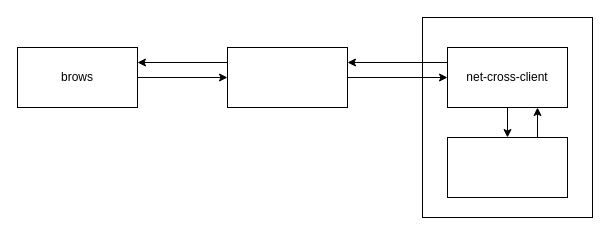
Image size: 610x235. Some labels were removed from this diagram. Here are the shapes that lost their labels. From the top down, the centre of each, then its label:
At pixel 287 77: "net-cross-server".
At pixel 507 167: "内网网站".
